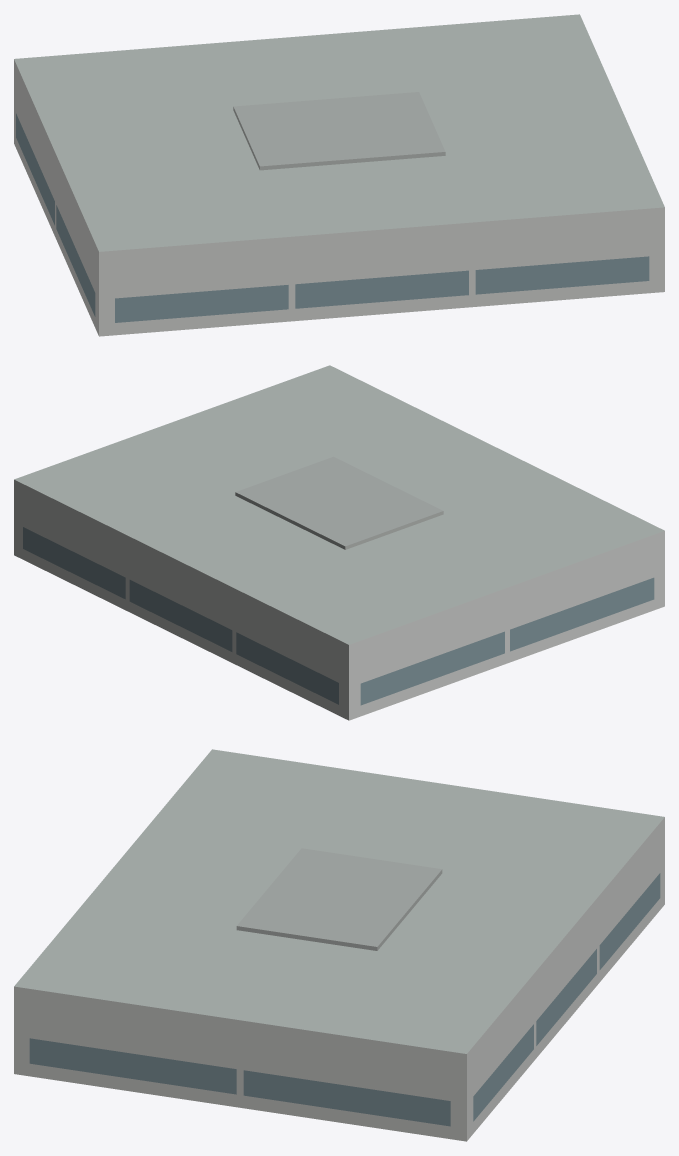
Rendered from fallback-dh-honor-hills-319.glb.
3 renders of one model, top to bottom at view 1: azimuth 30°, elevation 25°; view 2: azimuth 150°, elevation 25°; view 3: azimuth 270°, elevation 25°, orthographic. The views are drawn at different scales.
Visible parts, largest first — view 1: fallback-dh-honor-hills-319; view 2: fallback-dh-honor-hills-319; view 3: fallback-dh-honor-hills-319.
Boxes of the visible parts, left/top/right/bottom form: fallback-dh-honor-hills-319: left=14, top=14, right=664, bottom=336; fallback-dh-honor-hills-319: left=14, top=365, right=664, bottom=720; fallback-dh-honor-hills-319: left=14, top=749, right=664, bottom=1141.
Bounding box in the file's own units: 35.65 × 5 × 32.18.
